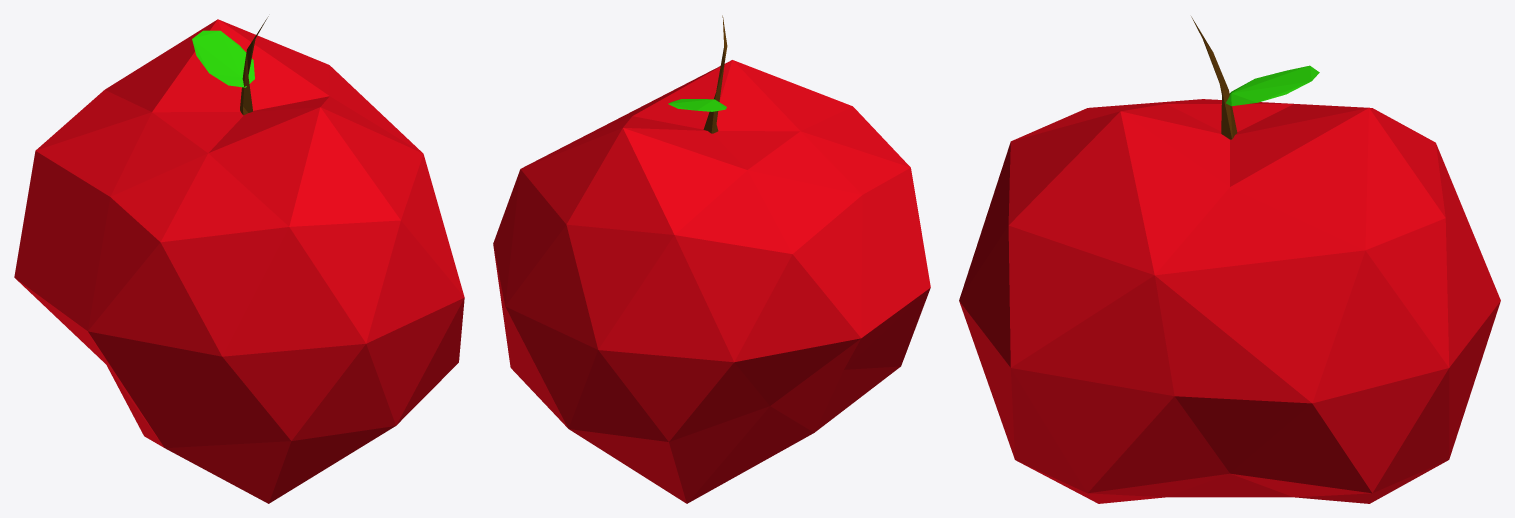
File: Apple#2.fbx
3 renders of one model, left to right at view 1: azimuth 30°, elevation 25°; view 2: azimuth 150°, elevation 25°; view 3: azimuth 270°, elevation 25°, orthographic. The views are drawn at different scales.
Parts seen in each view (by area): view 1: Apple#2; view 2: Apple#2; view 3: Apple#2.
Boxes of the visible parts, x1,y1,x2,y2 form: Apple#2: [14, 16, 464, 503]; Apple#2: [493, 15, 930, 503]; Apple#2: [959, 16, 1500, 503].
Size of the model in its own units: 12.77 by 14.1 by 13.5.
